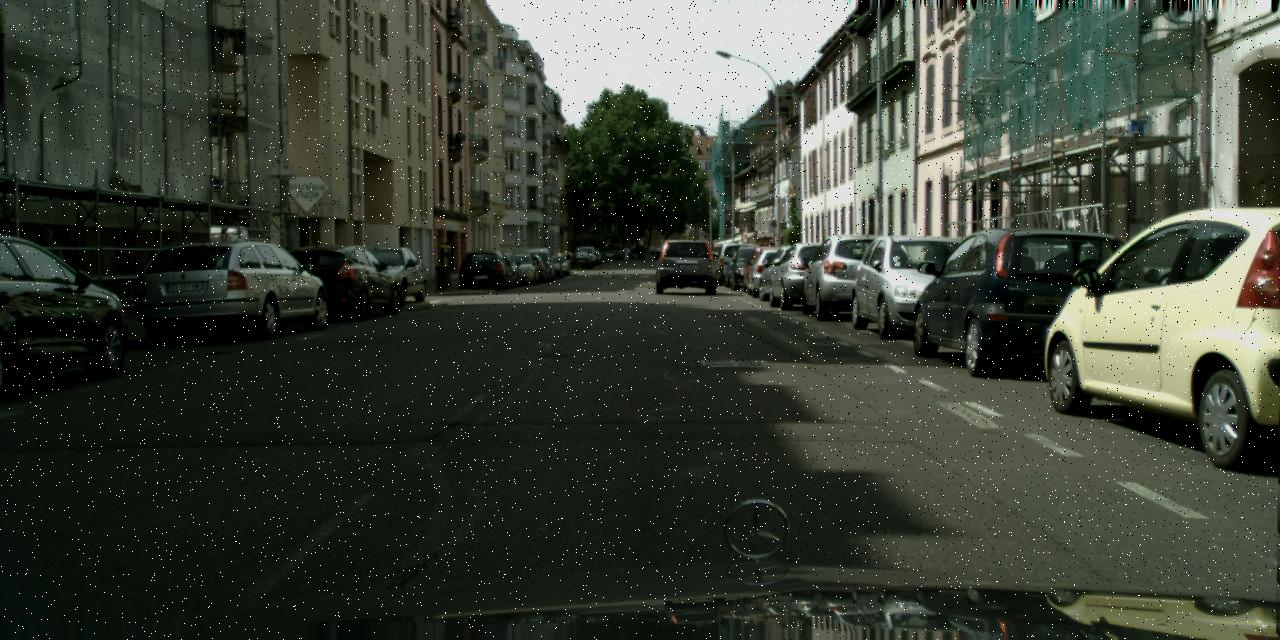ped: (623, 245, 629, 260)
